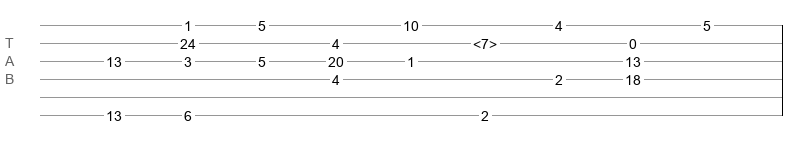0: (629, 36, 637, 46)
1: (184, 18, 192, 28), (407, 54, 415, 64)
10: (403, 18, 419, 28)
13: (106, 108, 122, 118), (106, 54, 122, 64), (625, 54, 641, 64)
18: (625, 72, 641, 82)
2: (481, 108, 489, 118), (555, 72, 563, 82)
20: (328, 54, 344, 64)
24: (180, 36, 196, 46)
3: (184, 54, 192, 64)
4: (332, 72, 340, 82), (332, 36, 340, 46), (555, 18, 563, 28)
5: (258, 18, 266, 28), (258, 54, 266, 64), (703, 18, 711, 28)
6: (184, 108, 192, 118)
harmonic: (473, 36, 497, 46)
